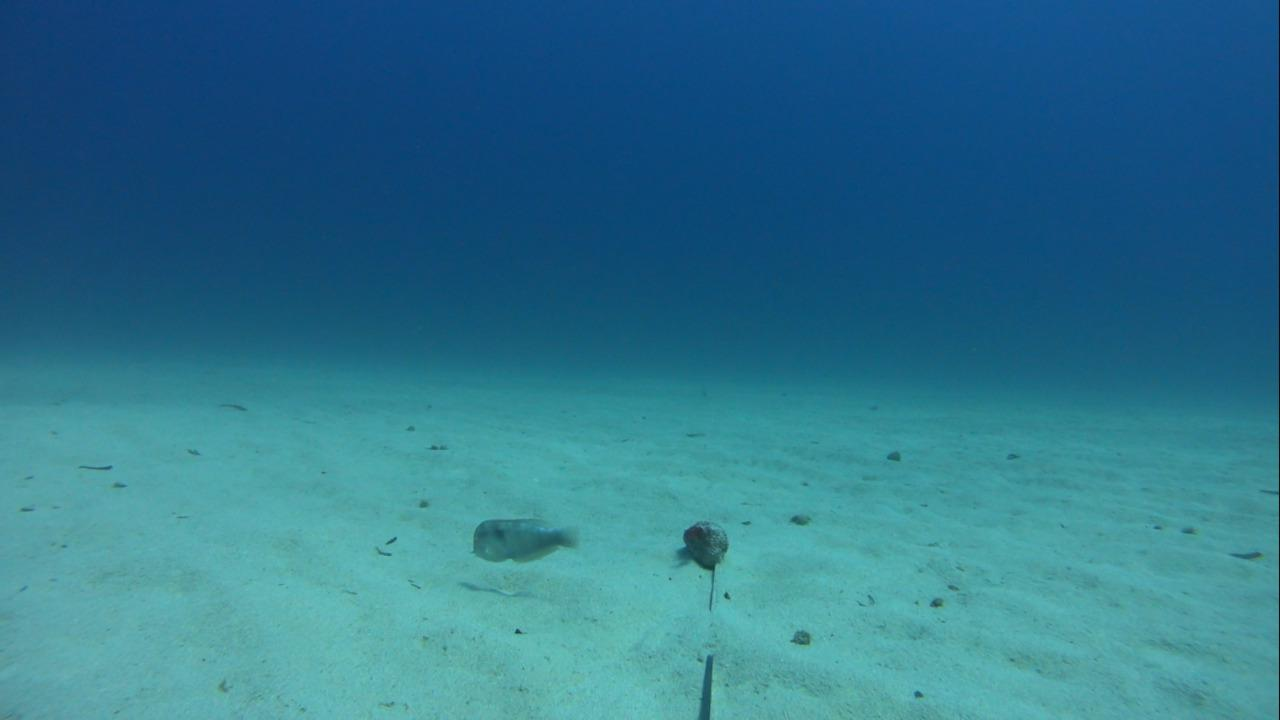raor: (465, 514, 582, 564)
